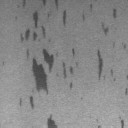red iron: (14, 0, 80, 109), (98, 50, 128, 94), (100, 8, 117, 32), (82, 3, 94, 20), (89, 115, 102, 128), (48, 114, 58, 128), (112, 42, 126, 50), (118, 114, 124, 128), (78, 96, 84, 100), (2, 60, 5, 66)
